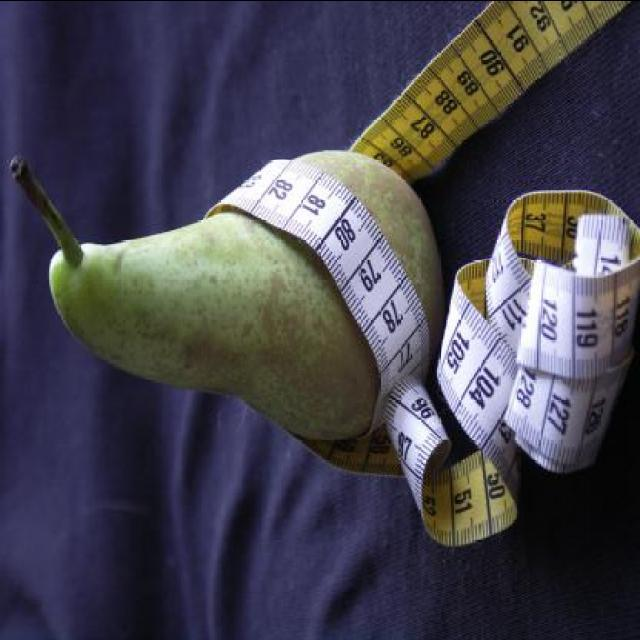Pear: (49, 148, 448, 442)
